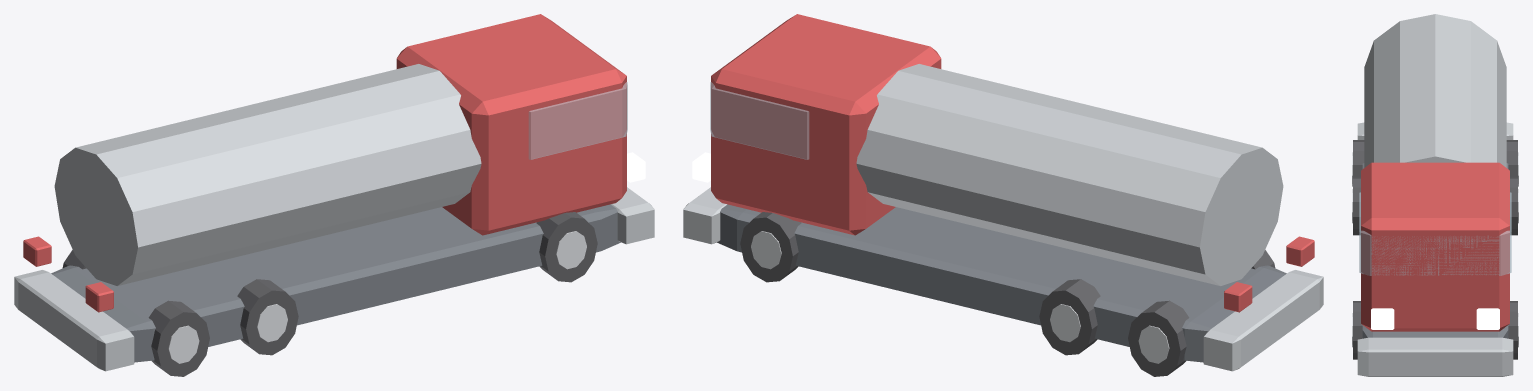
File: b15_airport_crash_tender.glb
The picture shows the model from 3 angles, left to right: view 1: azimuth 30°, elevation 25°; view 2: azimuth 150°, elevation 25°; view 3: azimuth 270°, elevation 25°; orthographic projection. The views are drawn at different scales.
Visible parts, largest first — view 1: b15_airport_crash_tender; view 2: b15_airport_crash_tender; view 3: b15_airport_crash_tender.
Boxes of the visible parts, x1,y1,x2,y2 form: b15_airport_crash_tender: (14,14,654,376); b15_airport_crash_tender: (683,14,1323,376); b15_airport_crash_tender: (1352,14,1518,376).
Size of the model in its own units: 10.94 by 3.7 by 3.36.
